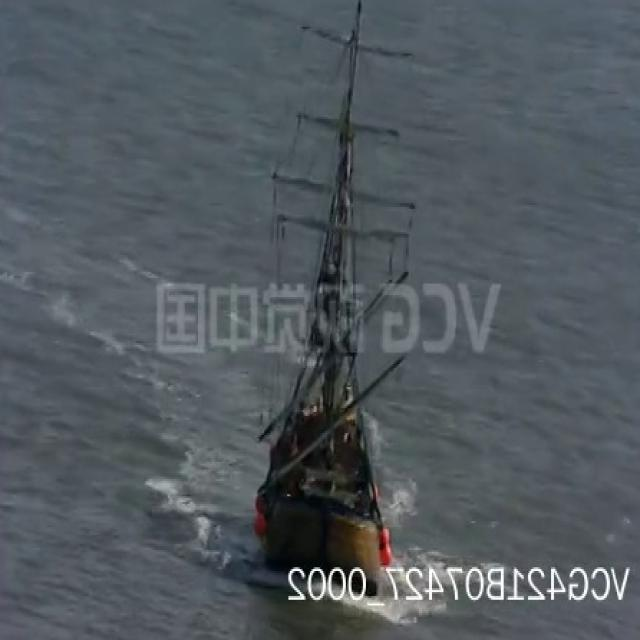sailboat: (247, 0, 429, 586)
